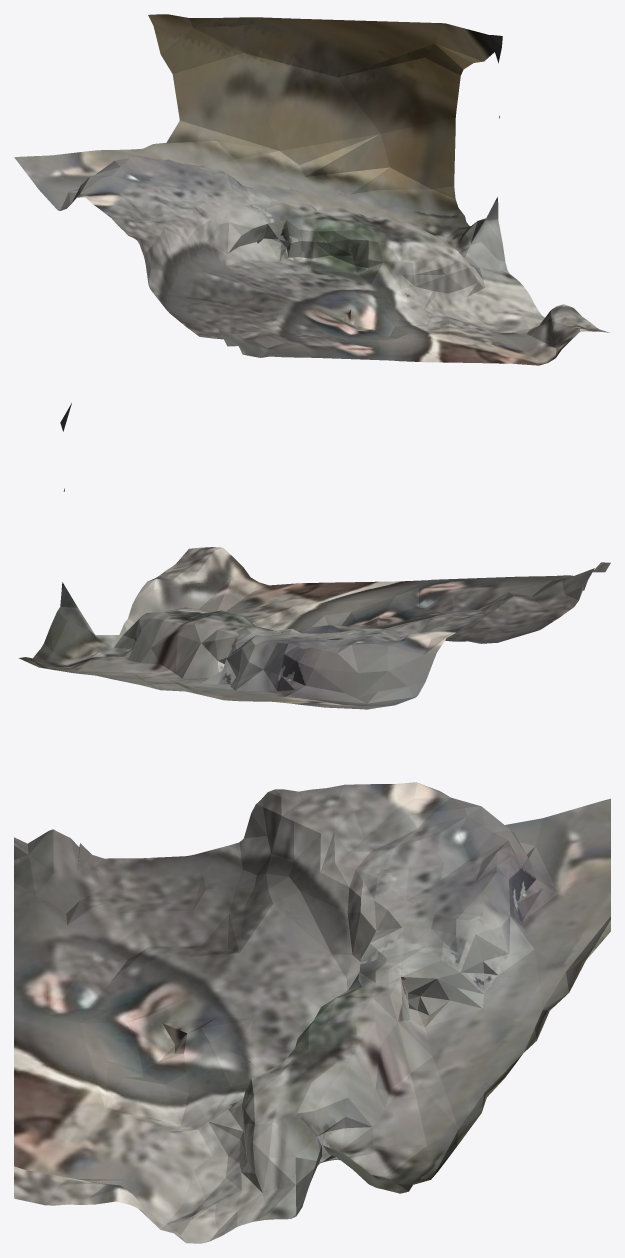
3 renders of one model, top to bottom at view 1: azimuth 30°, elevation 25°; view 2: azimuth 150°, elevation 25°; view 3: azimuth 270°, elevation 25°, orthographic. The views are drawn at different scales.
Bounding box in the file's own units: 0.8373 × 0.5303 × 0.8374.
Materials: 3 (3 with a texture image).
